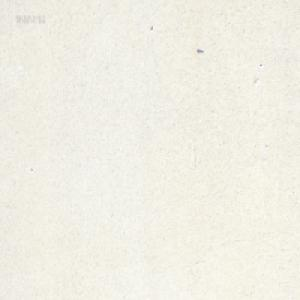Nail: (196, 48, 203, 53)
